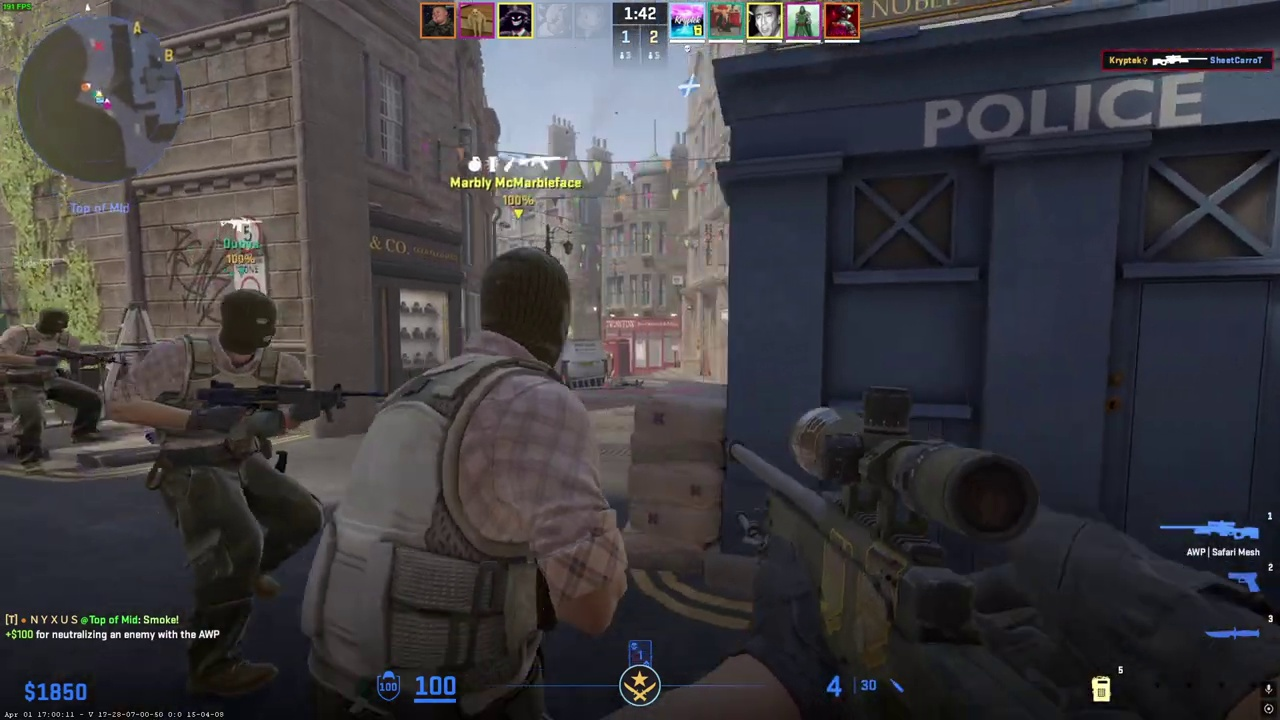Terrorist: (312, 245, 629, 720), (128, 289, 326, 700), (0, 304, 99, 469)
